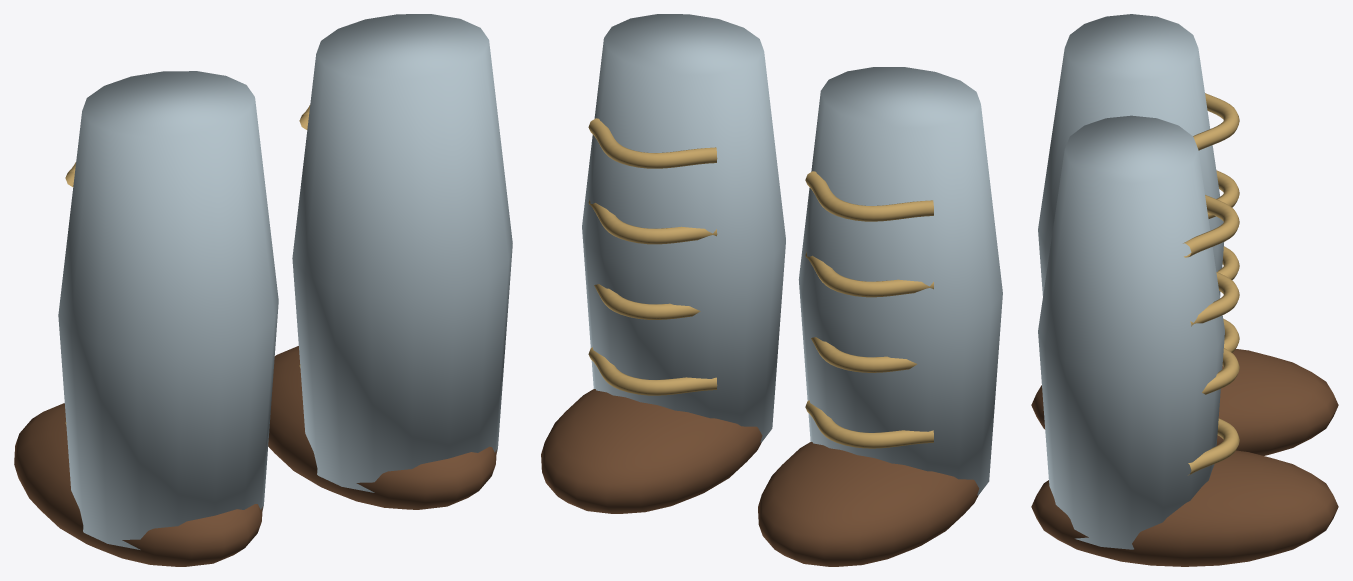
The model's file is steel_sabatons.glb.
3 renders of one model, left to right at view 1: azimuth 30°, elevation 25°; view 2: azimuth 150°, elevation 25°; view 3: azimuth 270°, elevation 25°, orthographic. The views are drawn at different scales.
Parts seen in each view (by area): view 1: Articulated shell, Articulated shell.001, Leather sole, Leather sole.001; view 2: Articulated shell.001, Articulated shell, Leather sole, Leather sole.001, Panel piping.003, Panel piping.007, Panel piping, Panel piping.004, Panel piping.006, Panel piping.002, Panel piping.001, Panel piping.005; view 3: Articulated shell.001, Articulated shell, Leather sole.001, Leather sole, Panel piping.007, Panel piping.003, Panel piping.004, Panel piping.006, Panel piping.005, Panel piping.002, Panel piping.001, Panel piping.
Boxes of the visible parts, box(x1,y1,x2,y2) form: Articulated shell: box(58, 71, 278, 549); Articulated shell.001: box(292, 14, 512, 492); Leather sole: box(14, 403, 262, 566); Leather sole.001: box(268, 346, 496, 509); Articulated shell.001: box(582, 14, 785, 442); Articulated shell: box(798, 67, 1002, 495); Leather sole: box(758, 442, 979, 566); Leather sole.001: box(541, 389, 762, 513); Panel piping.003: box(805, 171, 933, 221); Panel piping.007: box(588, 118, 717, 168); Panel piping: box(805, 400, 933, 448); Panel piping.004: box(588, 347, 717, 395); Panel piping.006: box(588, 199, 717, 244); Panel piping.002: box(805, 252, 933, 297); Panel piping.001: box(811, 337, 917, 372); Panel piping.005: box(594, 284, 700, 319); Articulated shell.001: box(1038, 115, 1224, 549); Articulated shell: box(1038, 14, 1223, 296); Leather sole.001: box(1031, 450, 1338, 566); Leather sole: box(1031, 349, 1338, 455); Panel piping.007: box(1183, 195, 1239, 257); Panel piping.003: box(1193, 93, 1239, 150); Panel piping.004: box(1188, 418, 1239, 475); Panel piping.006: box(1190, 272, 1239, 326); Panel piping.005: box(1202, 348, 1239, 394); Panel piping.002: box(1207, 170, 1239, 218); Panel piping.001: box(1217, 246, 1239, 280); Panel piping: box(1223, 319, 1239, 352).
Size of the model in its own units: 0.66 by 0.665 by 0.46.
